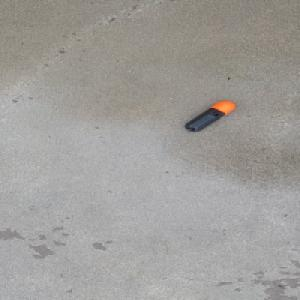PlasticPart: (183, 100, 236, 132)
